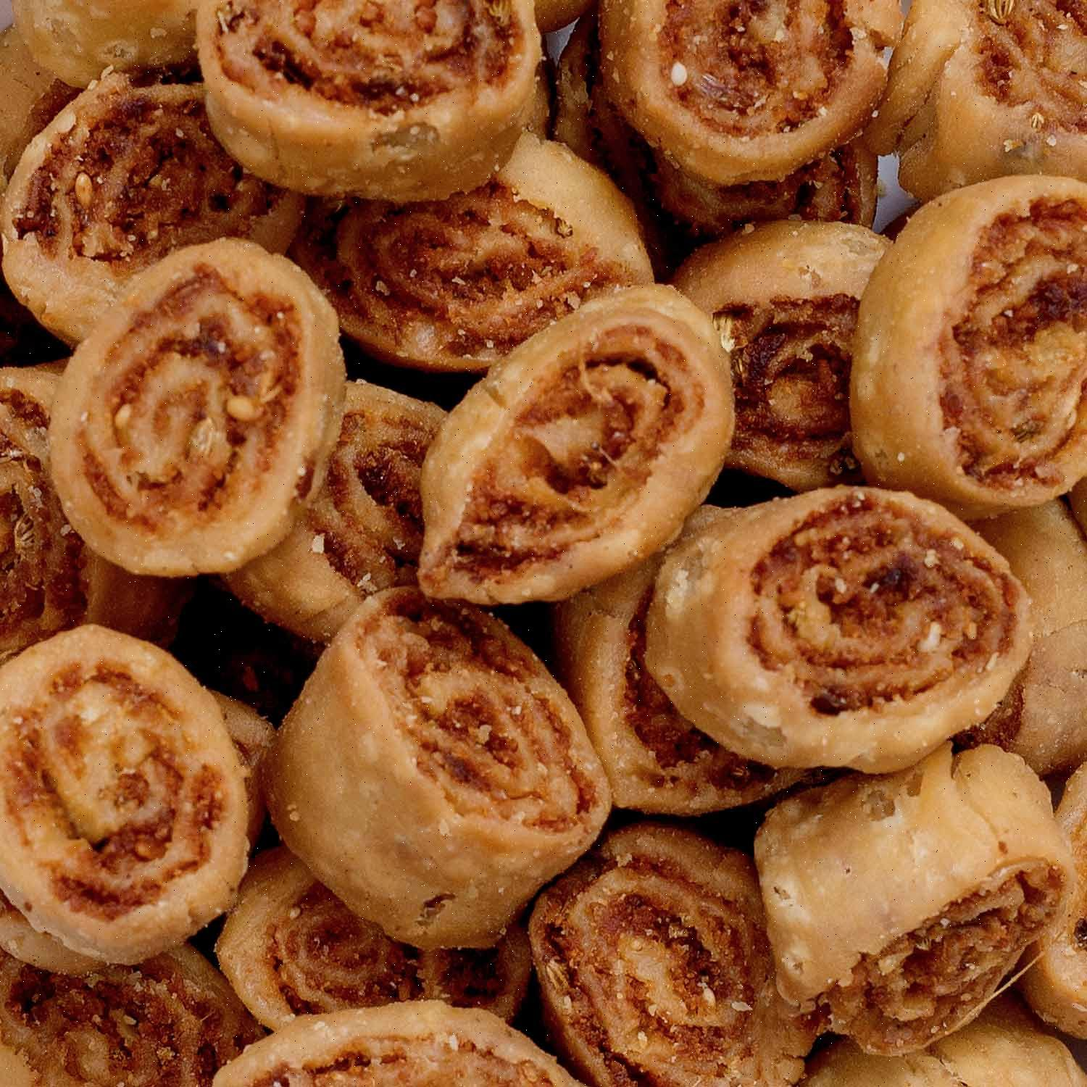bhakarwadi: (2, 4, 1087, 1077)
